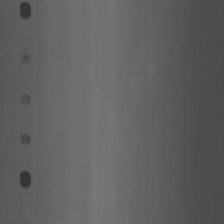oil_spot: (18, 0, 32, 20), (19, 169, 31, 190), (21, 89, 32, 105), (21, 52, 33, 65), (20, 132, 31, 144)
